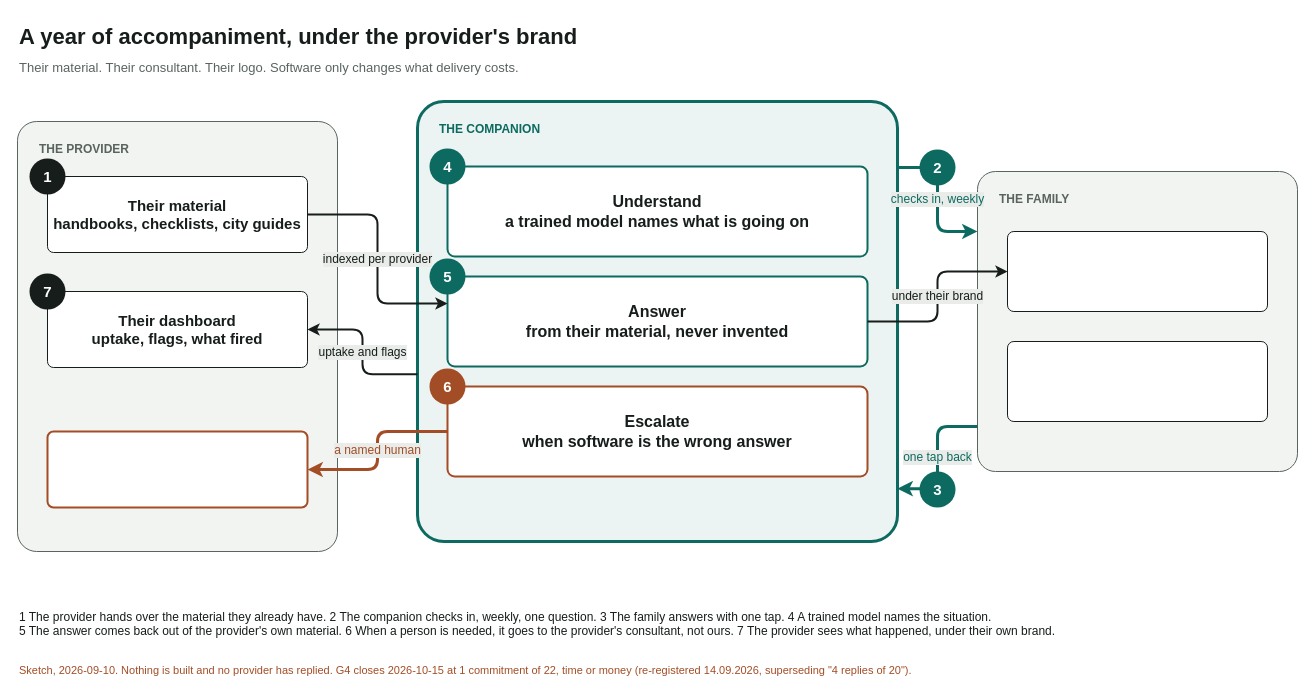
Some shapes in this 1315 by 694 pixel diagram are drawn without their labels. Here are the shapes that lost their labels. From the top down, the centre of each, then its label:
At (1137,271): "Where they already are Telegram, or the web".
At (1137,381): "Month 1 to month 12 the window nobody owns".
At (177,469): "Their consultant takes the moments that need a person".
